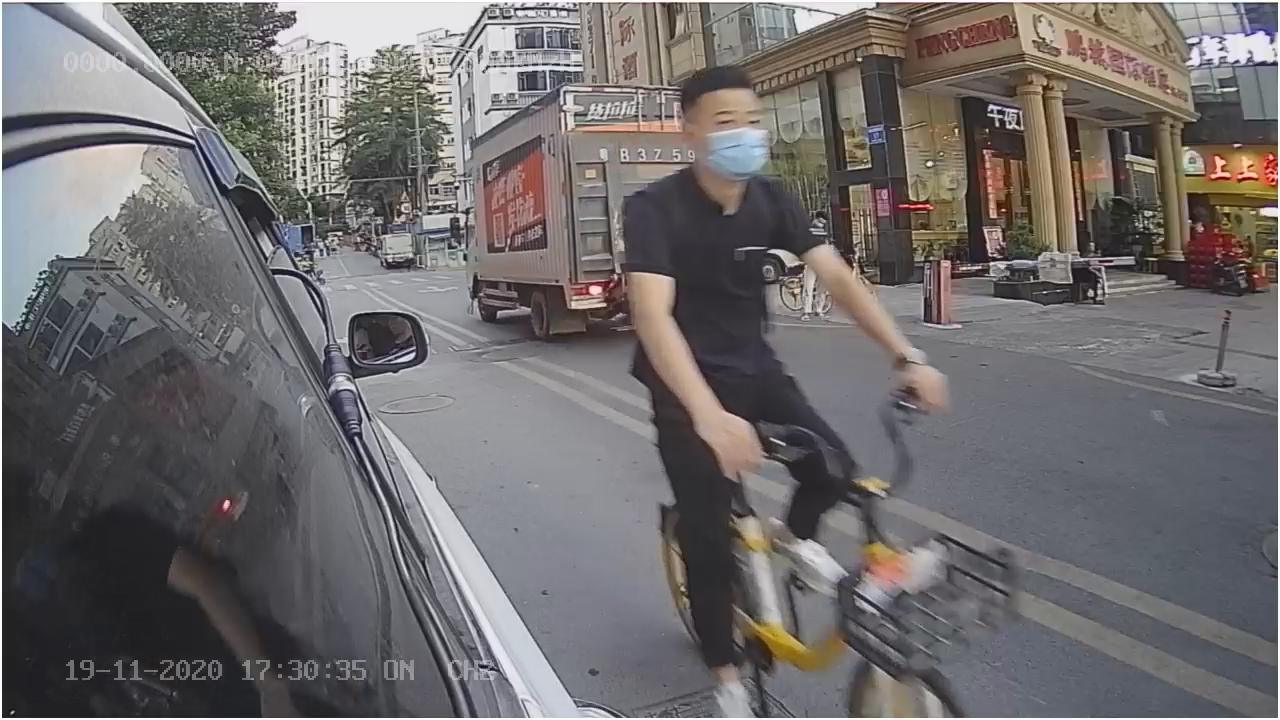person: (621, 76, 832, 425)
